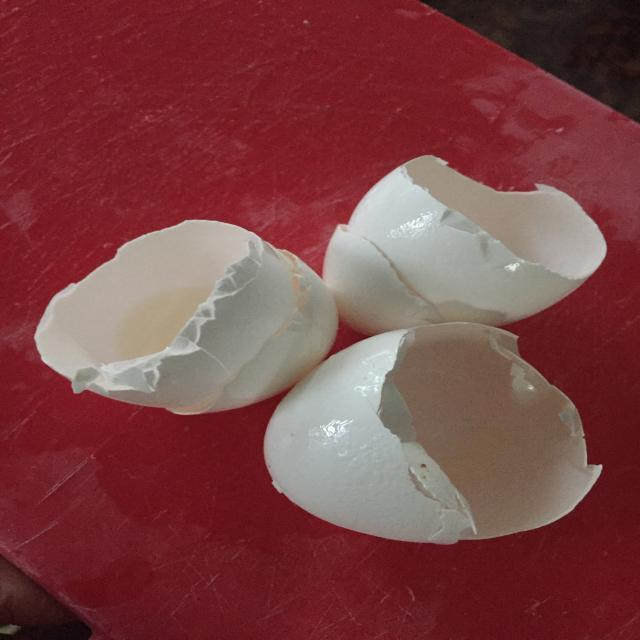egg shell: (256, 316, 615, 552), (23, 212, 349, 420), (314, 149, 613, 344)
